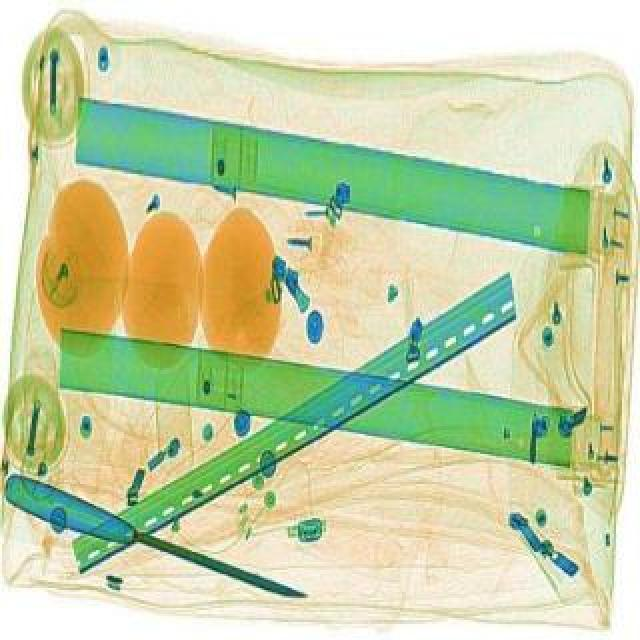knife: (0, 470, 312, 612)
